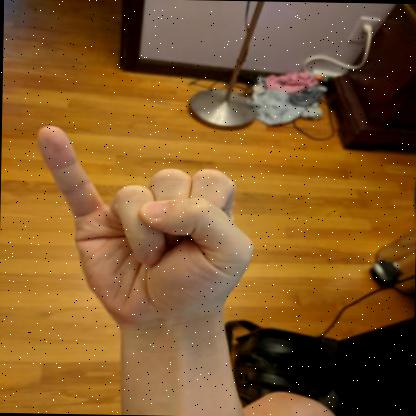I: (37, 125, 253, 335)
